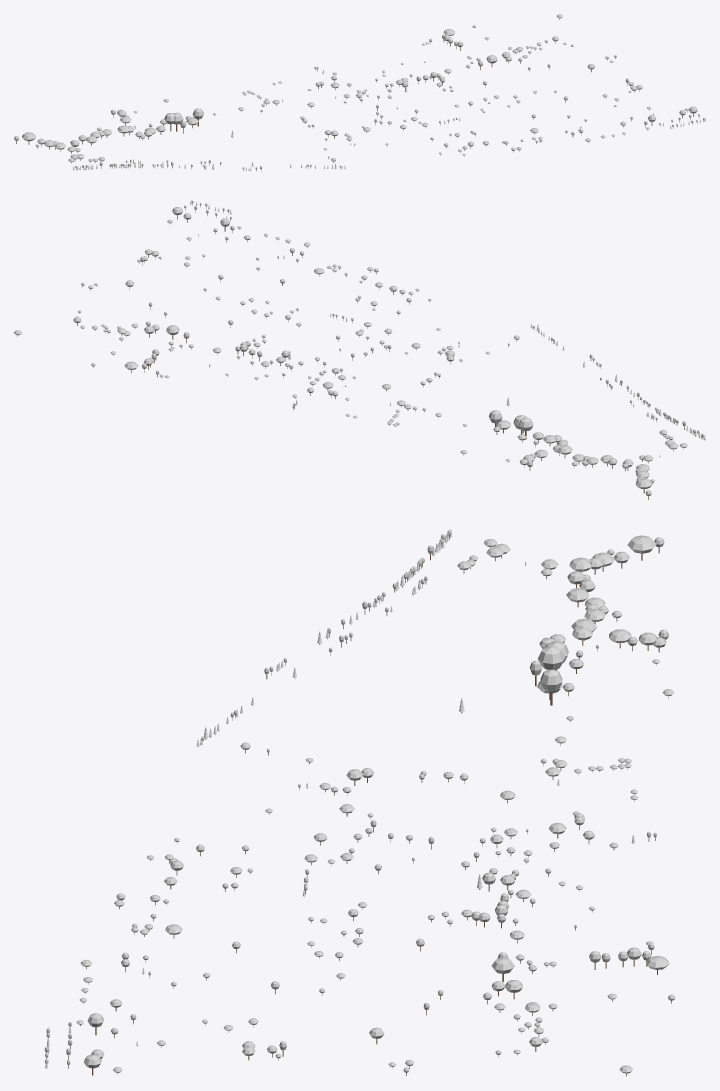
Rendered from stromy.glb.
3 views of the same model, one above another, from view 1: azimuth 30°, elevation 25°; view 2: azimuth 150°, elevation 25°; view 3: azimuth 270°, elevation 25° (orthographic). The views are drawn at different scales.
Visible parts, largest first — view 1: Stromy_Listnate_02_02, Stromy_Ihlicnate_02_02; view 2: Stromy_Listnate_02_02, Stromy_Ihlicnate_02_02; view 3: Stromy_Listnate_02_02, Stromy_Ihlicnate_02_02.
Part boxes in pixels (bbox=[...]): Stromy_Listnate_02_02: bbox=[14, 14, 704, 171]; Stromy_Ihlicnate_02_02: bbox=[73, 70, 705, 170]; Stromy_Listnate_02_02: bbox=[14, 200, 704, 499]; Stromy_Ihlicnate_02_02: bbox=[190, 201, 705, 456]; Stromy_Listnate_02_02: bbox=[44, 530, 675, 1076]; Stromy_Ihlicnate_02_02: bbox=[45, 529, 635, 1068].
Bounding box in the file's own units: 801 × 28.08 × 404.
